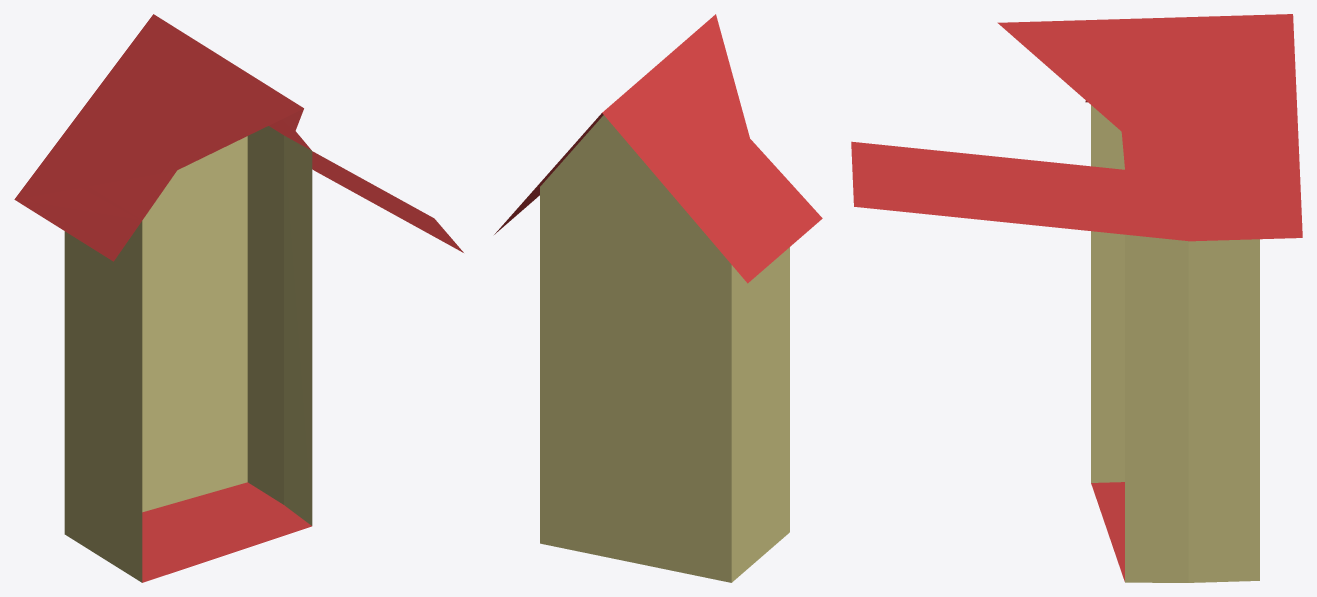
The picture shows the model from 3 angles, left to right: view 1: azimuth 30°, elevation 25°; view 2: azimuth 150°, elevation 25°; view 3: azimuth 270°, elevation 25°; orthographic projection. The views are drawn at different scales.
Bounding box in the file's own units: 6.18 × 8.47 × 10.85.
